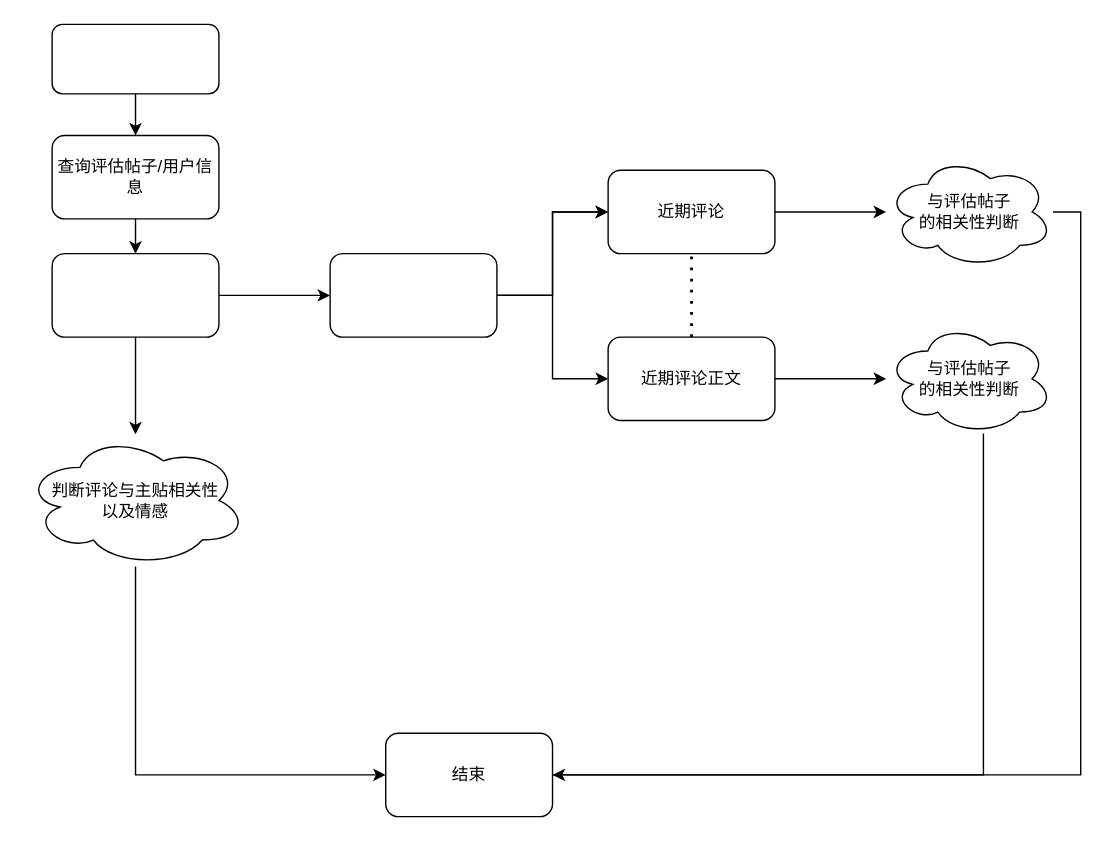
Some shapes in this 1116 by 841 pixel diagram are drawn without their labels. The shapes that lost their labels are listed below. From the top down, each one's centre as x and y in pixels, then its label:
At [135,58]: "评估帖子ID".
At [135,294]: "查询评估帖子的评论".
At [413,294]: "评估帖子的评论用户".
